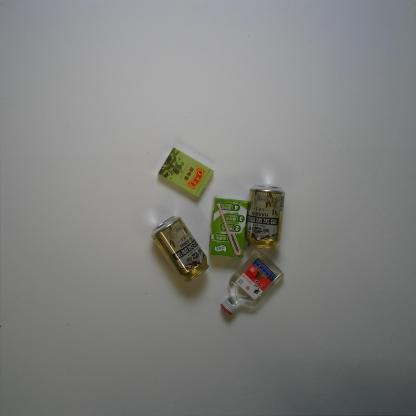Alcohol: (219, 249, 284, 317), (150, 215, 210, 283), (244, 184, 286, 251)
Candy: (158, 146, 214, 198)
Milk: (208, 196, 249, 259)
